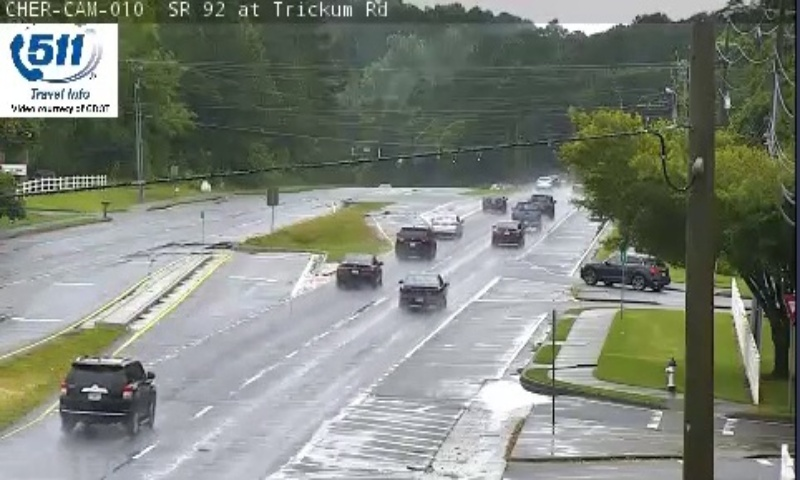car: (59, 357, 154, 420), (398, 274, 446, 308), (336, 252, 381, 286), (395, 225, 434, 256), (491, 220, 524, 247), (431, 214, 463, 238), (512, 202, 542, 227)
